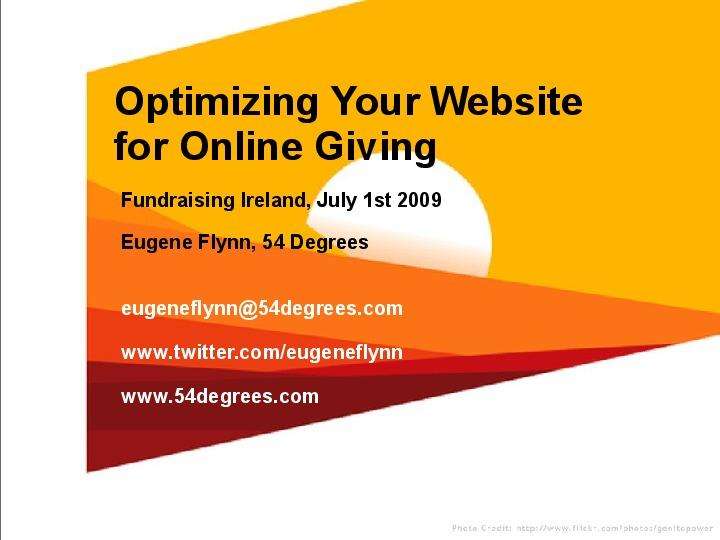paragraph: (111, 181, 502, 440)
title: (98, 71, 625, 175)
